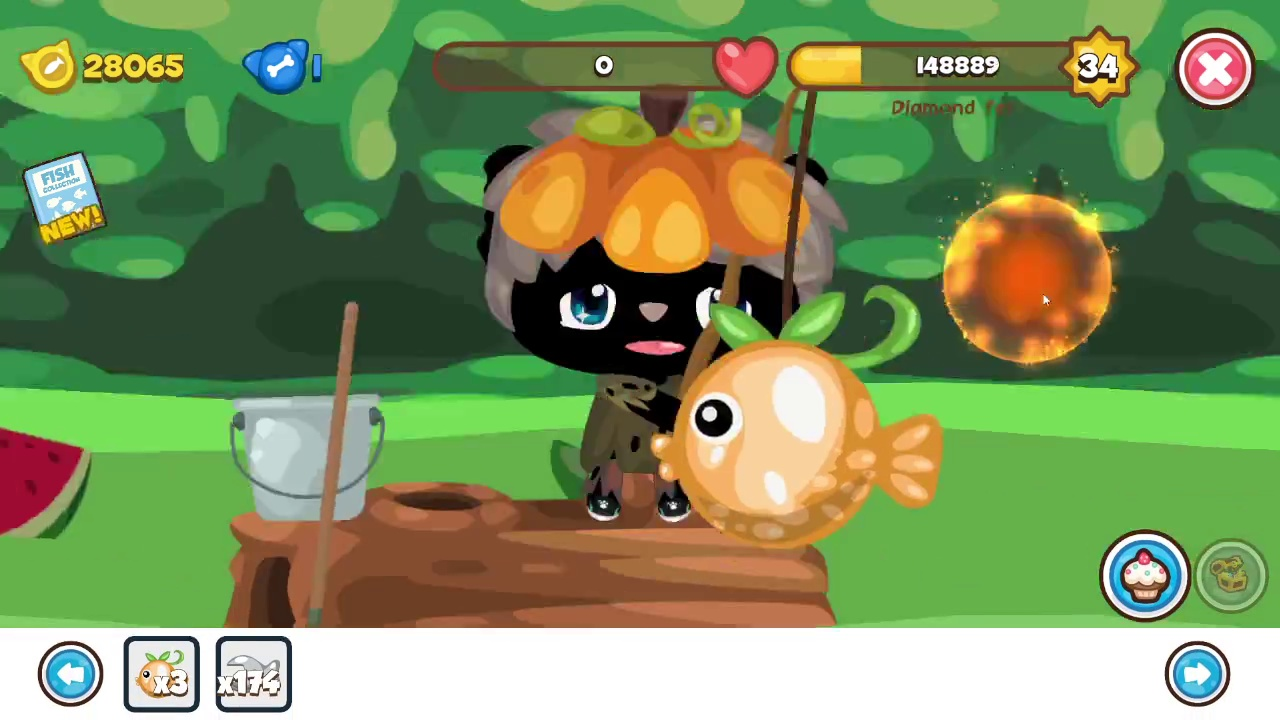point: (942, 191, 1117, 363)
